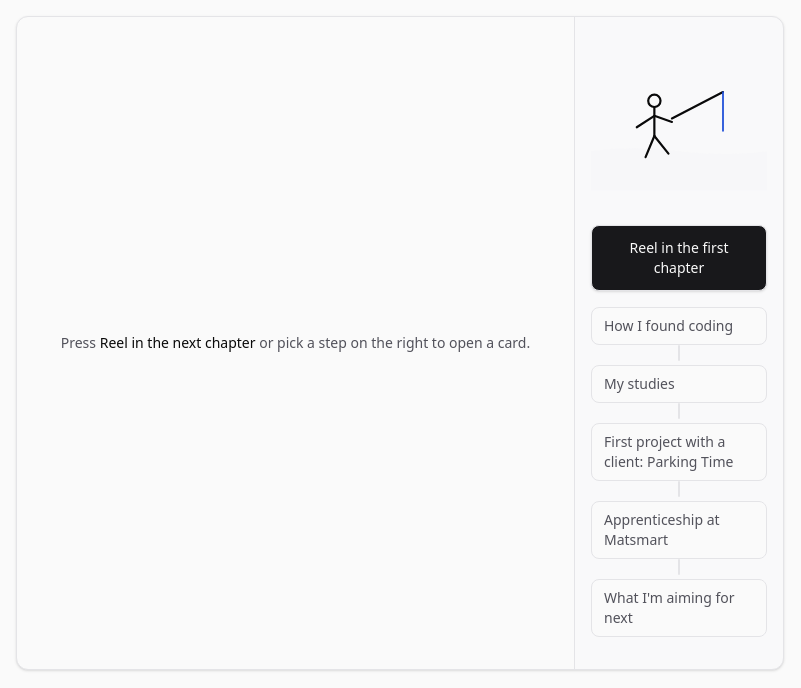
it: AboutFishingJourney › shows the first card after clicking the reel button
What coordinates should you click on to do the following:
click the button "Reel in the first chapter"
I would click on:
 (679, 258)
Its box is [591,225,767,291].
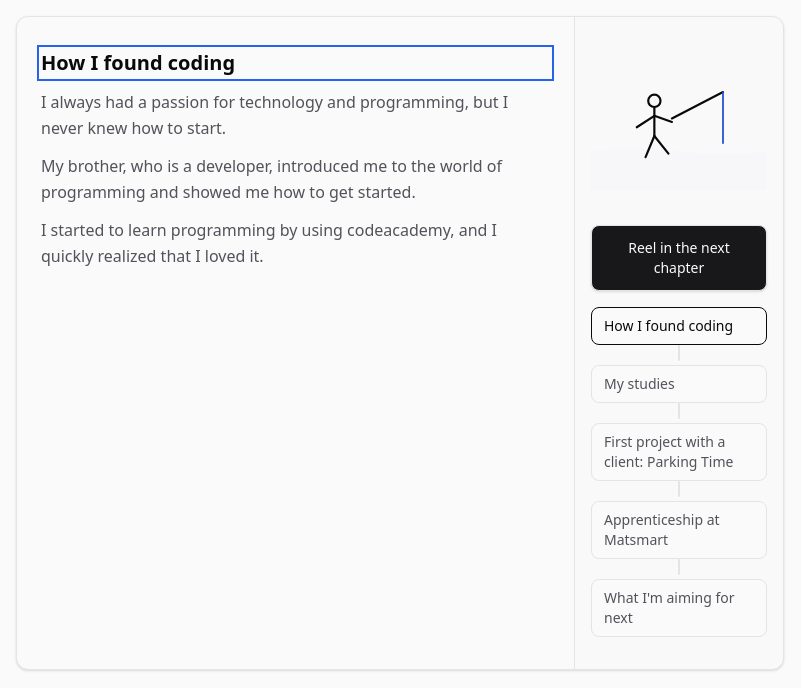
Check: the heading "How I found coding" is shown, box [41,49,235,76]
